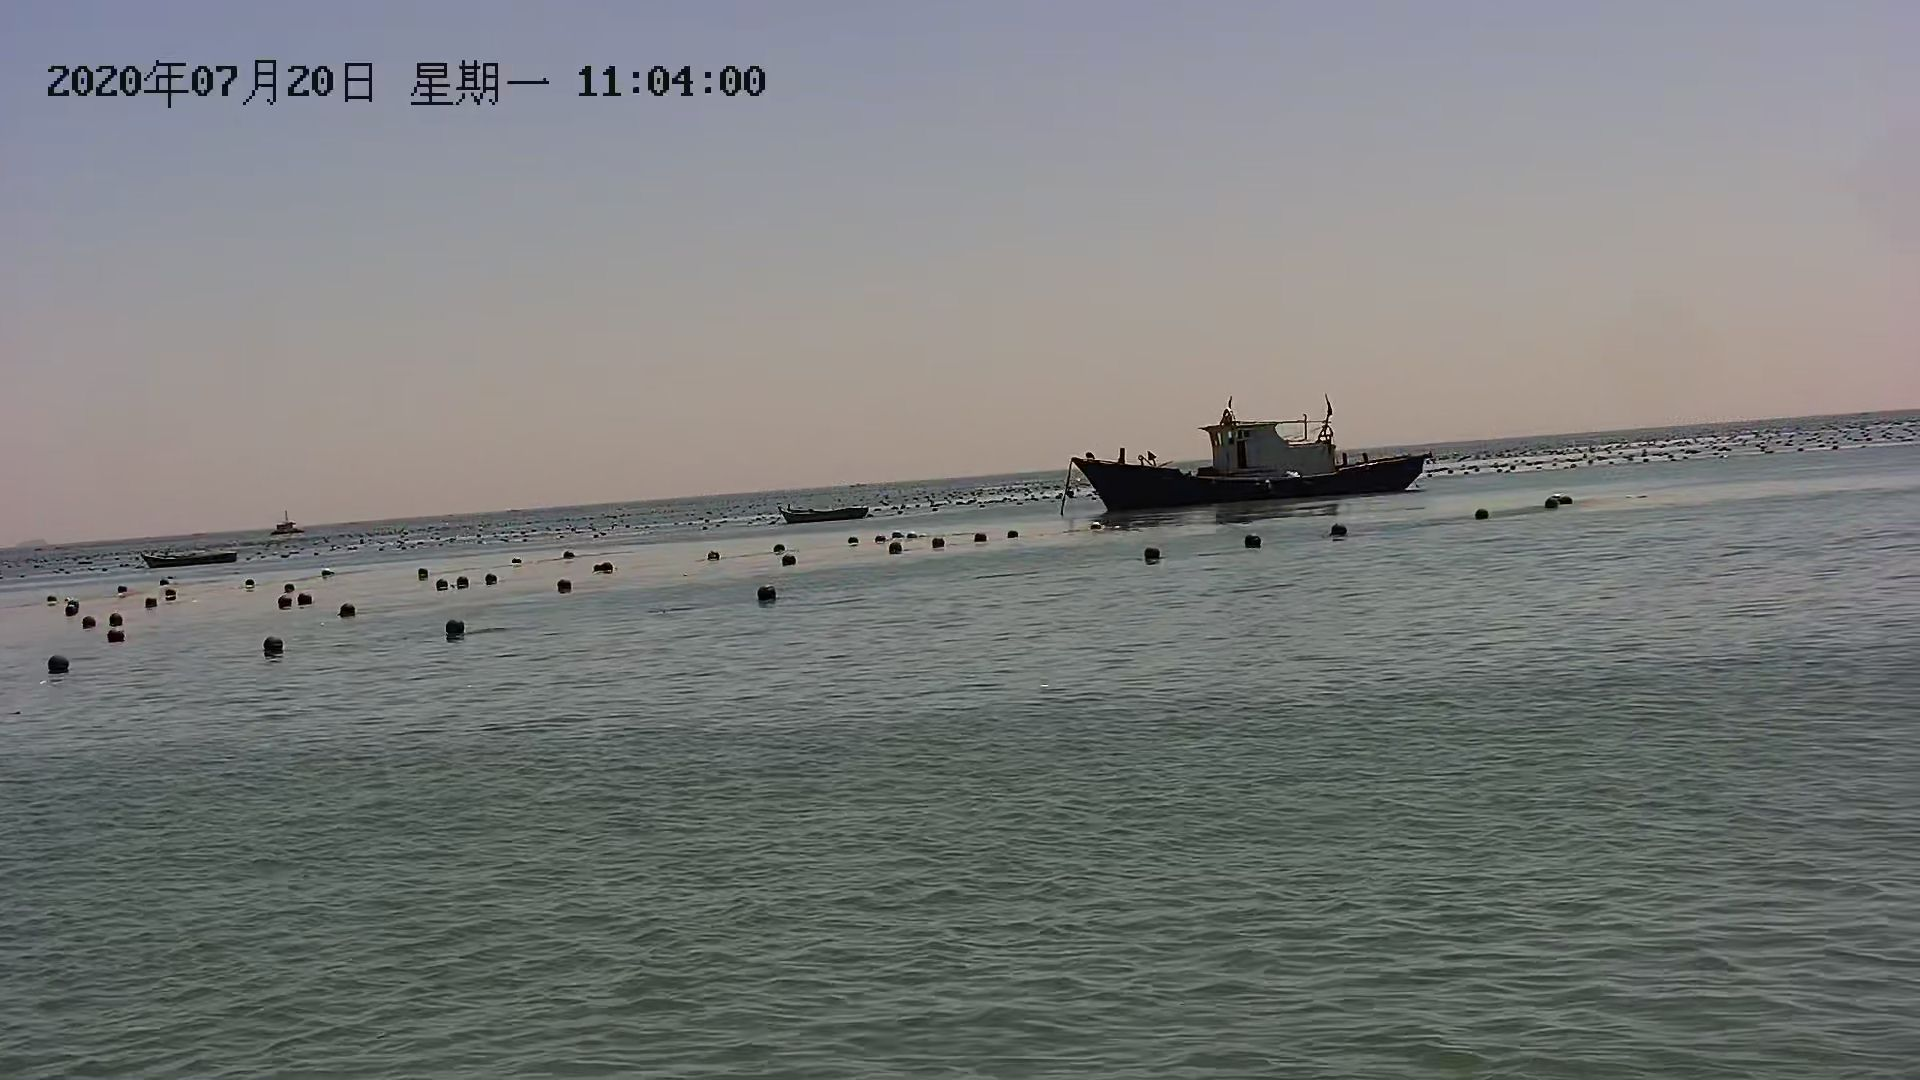ball: (40, 642, 76, 680), (435, 616, 473, 644), (258, 630, 290, 663), (756, 579, 785, 612), (334, 593, 363, 625), (477, 568, 509, 591), (1137, 546, 1162, 574), (273, 591, 301, 616), (549, 574, 578, 596), (1540, 489, 1563, 516), (1469, 506, 1497, 527), (80, 608, 102, 636), (105, 626, 129, 650), (1328, 522, 1353, 545), (291, 587, 318, 608), (454, 568, 476, 591), (1247, 530, 1265, 554)
boat: (775, 502, 872, 527), (142, 549, 243, 570)
ship: (1063, 417, 1437, 502)
